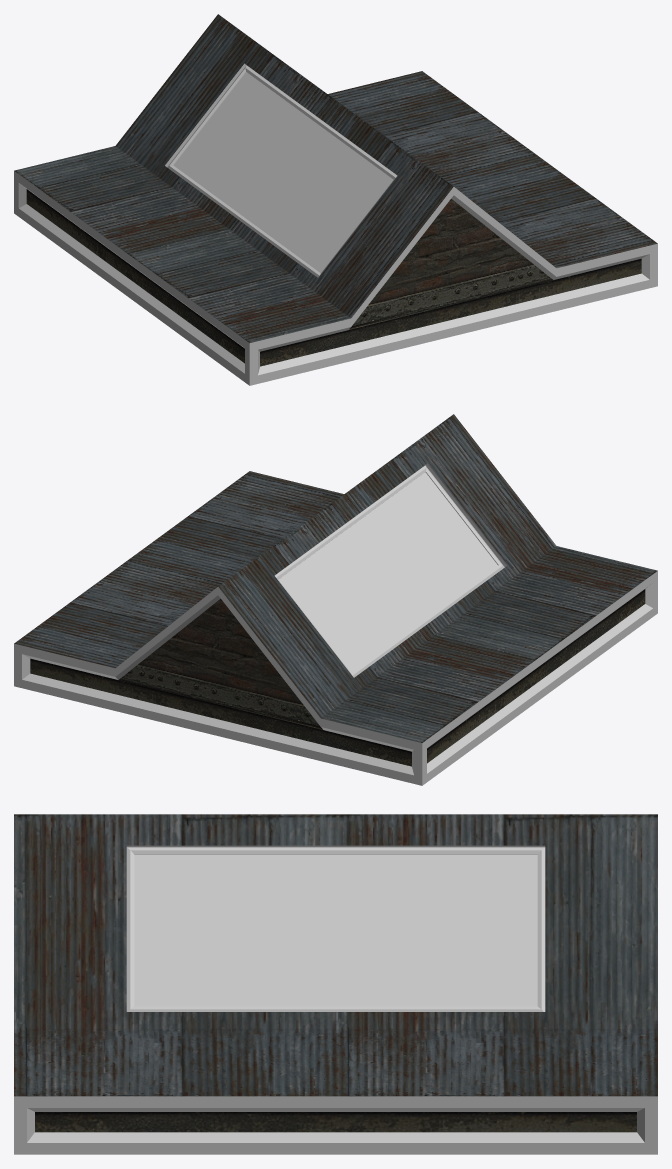
Rendered from roof_bx_1.fbx.
The picture shows the model from 3 angles, top to bottom: view 1: azimuth 30°, elevation 25°; view 2: azimuth 150°, elevation 25°; view 3: azimuth 270°, elevation 25°; orthographic projection. The views are drawn at different scales.
Visible parts, largest first — view 1: roof_bx_1; view 2: roof_bx_1; view 3: roof_bx_1.
Part boxes in pixels (x1,y1,x2,y2): roof_bx_1: (14, 14, 657, 385); roof_bx_1: (14, 414, 657, 785); roof_bx_1: (14, 814, 657, 1154).
Bounding box in the file's own units: 4 × 4 × 1.4.
